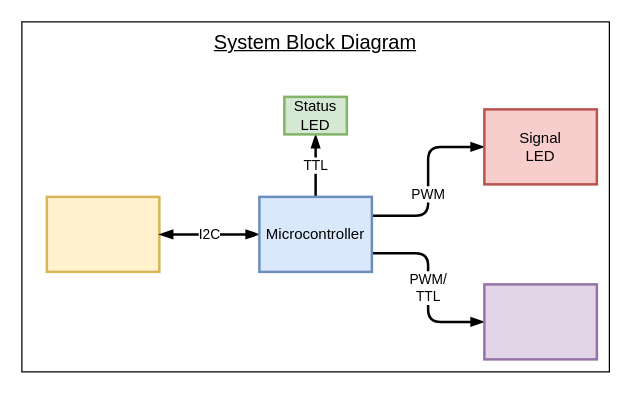
Image size: 631x394. Some labels were removed from this diagram. Here are the shapes that lost their labels. From the top down, the centre of each, then its label:
point 102,233: CO2 Sensor
point 540,321: Fan
